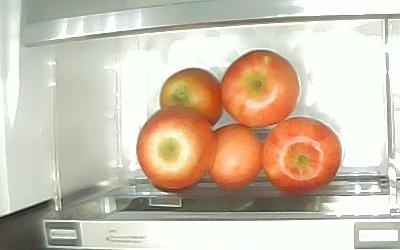apple: (136, 106, 217, 189), (221, 49, 301, 127), (264, 116, 341, 192), (159, 68, 222, 126), (209, 123, 263, 189)
